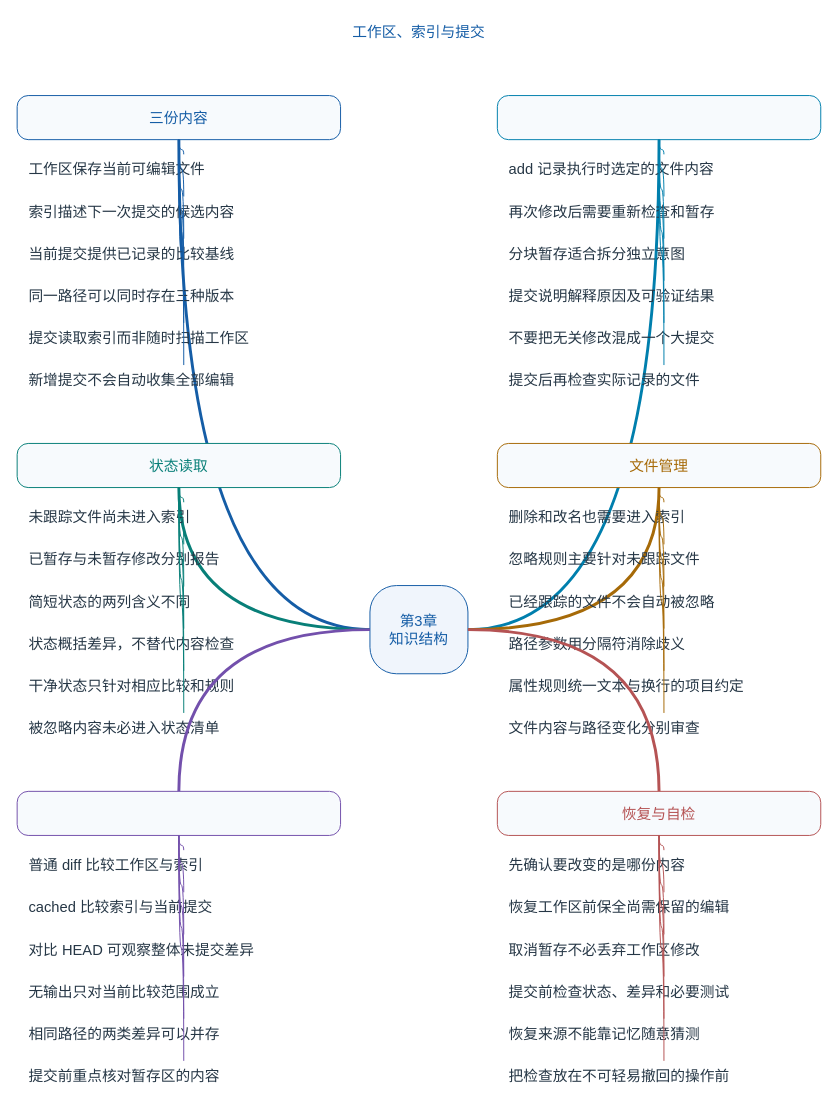
Image size: 838x1112. Some labels were removed from this diagram. Each missing label, with the centre of its shape:
准备提交: the point at 658,117
差异比较: the point at 178,812
